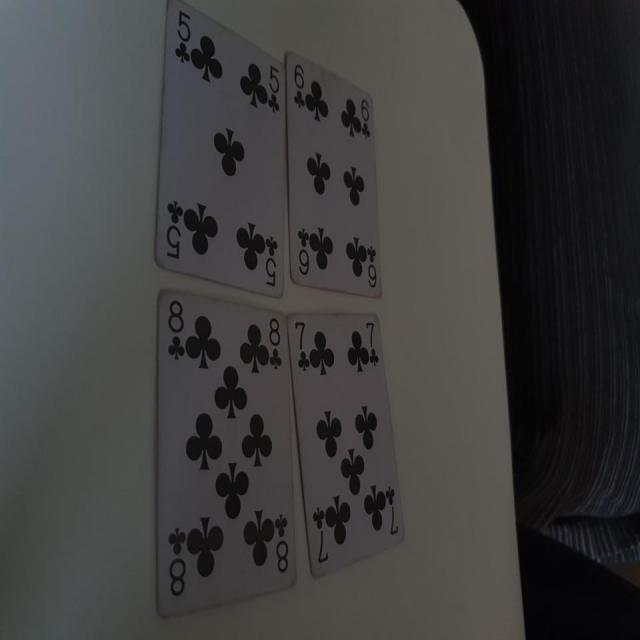5 of clubs: (152, 1, 286, 299)
6 of clubs: (284, 50, 384, 298)
7 of clubs: (287, 310, 408, 579)
8 of clubs: (156, 288, 298, 622)
